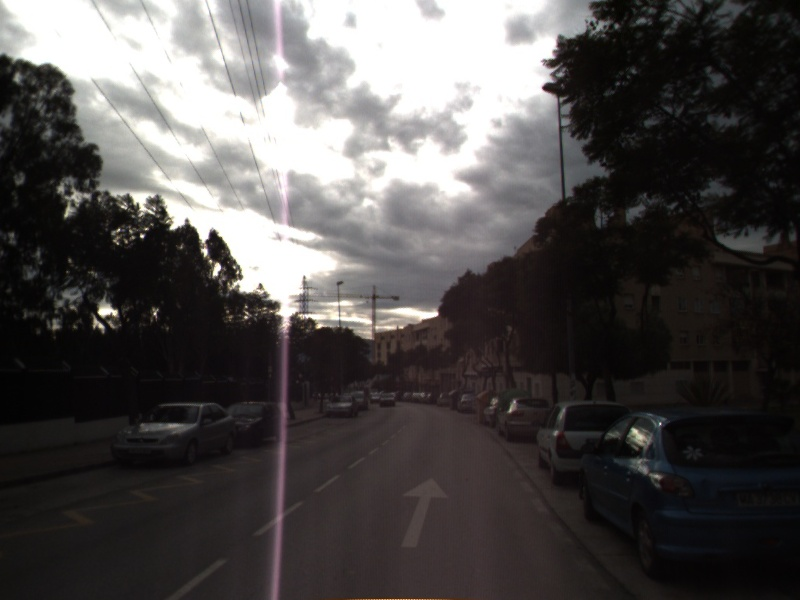STRAIGHT: (398, 475, 452, 550)
